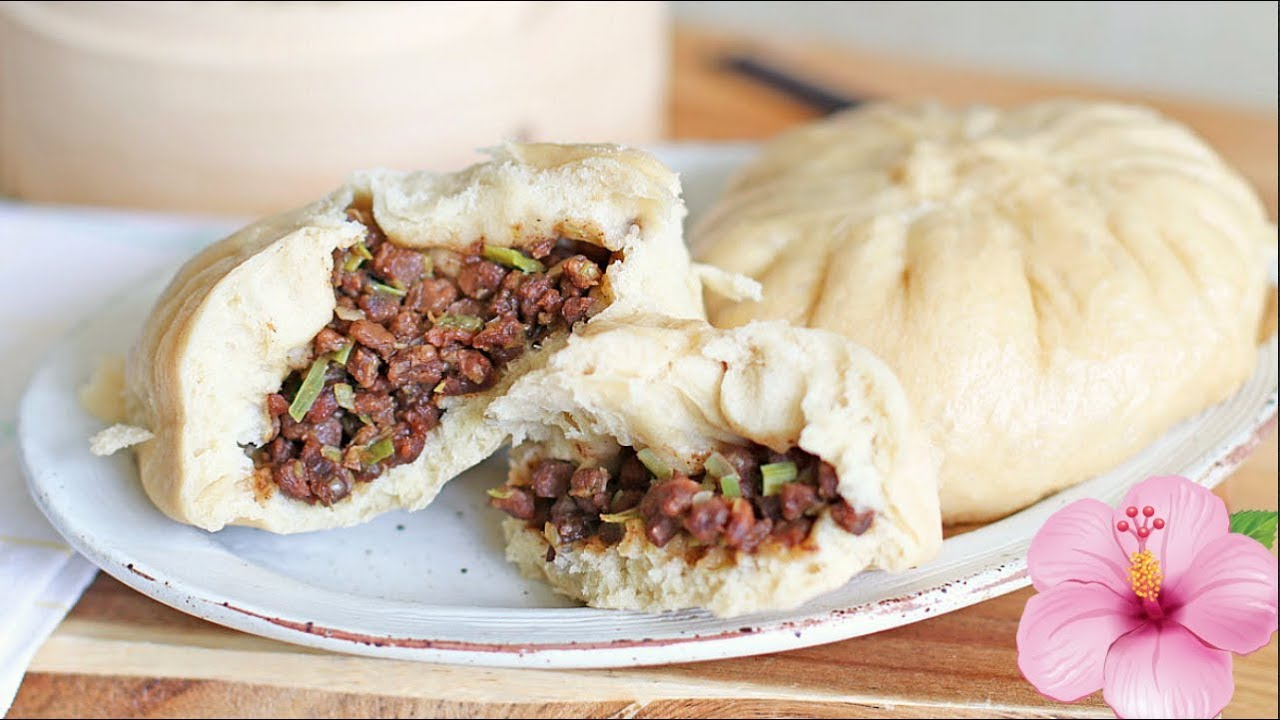hamburger_buns: (642, 75, 1280, 510), (120, 123, 738, 488), (473, 302, 949, 620)
